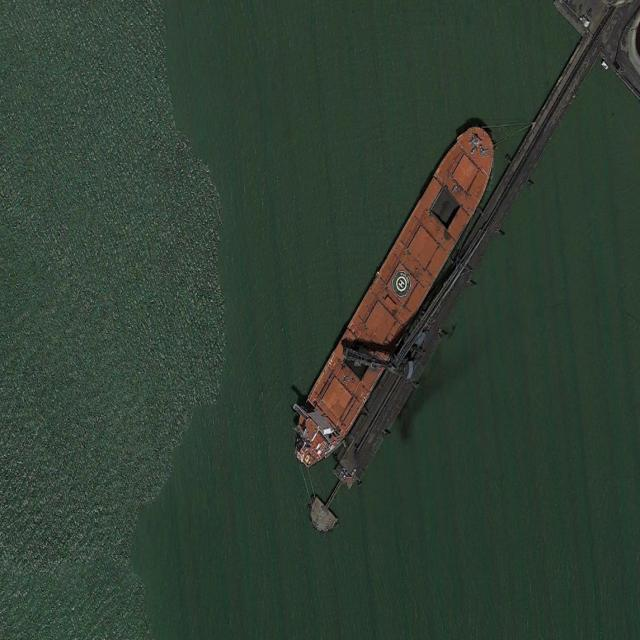Cargo: (280, 112, 509, 482)
